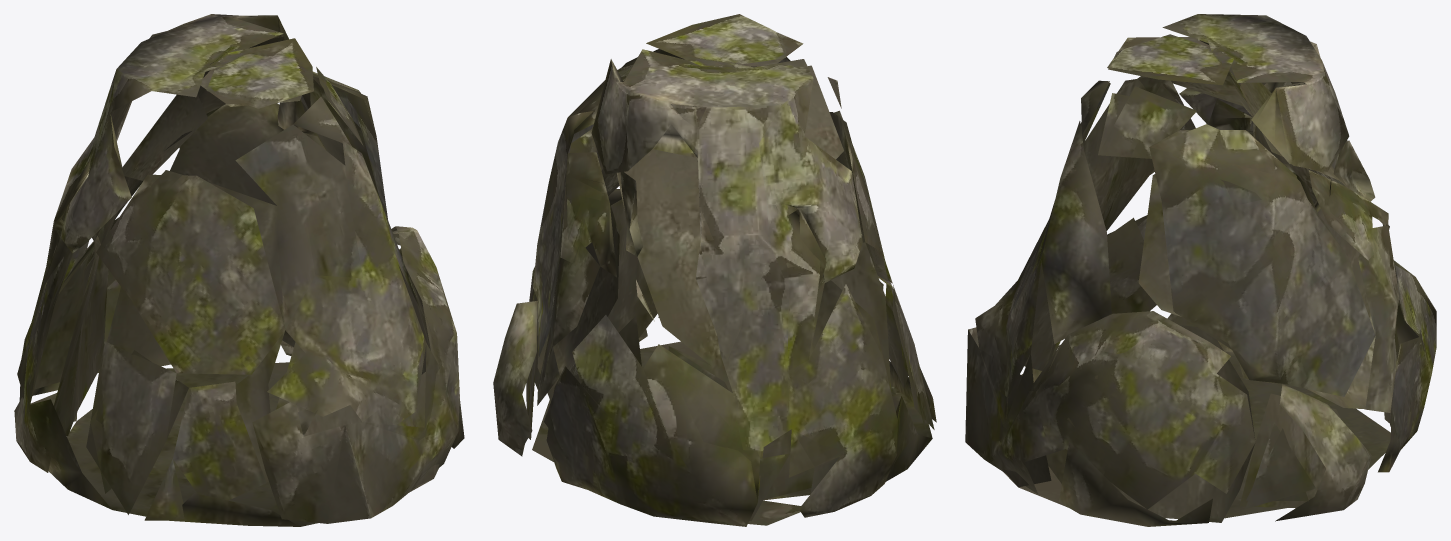
File: boulder-2.glb
The picture shows the model from 3 angles, left to right: view 1: azimuth 30°, elevation 25°; view 2: azimuth 150°, elevation 25°; view 3: azimuth 270°, elevation 25°; orthographic projection.
Visible parts, largest first — view 1: boulder-2.raw; view 2: boulder-2.raw; view 3: boulder-2.raw.
Part boxes in pixels (box(x1,y1,x2,y2)): boulder-2.raw: box(14, 14, 464, 526); boulder-2.raw: box(493, 14, 936, 526); boulder-2.raw: box(965, 14, 1436, 526).
Size of the model in its own units: 2.08 by 2 by 2.2.
1 material, 1 textured.
